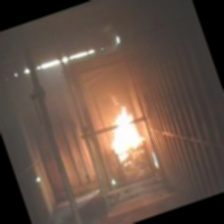fire: (96, 97, 152, 168)
